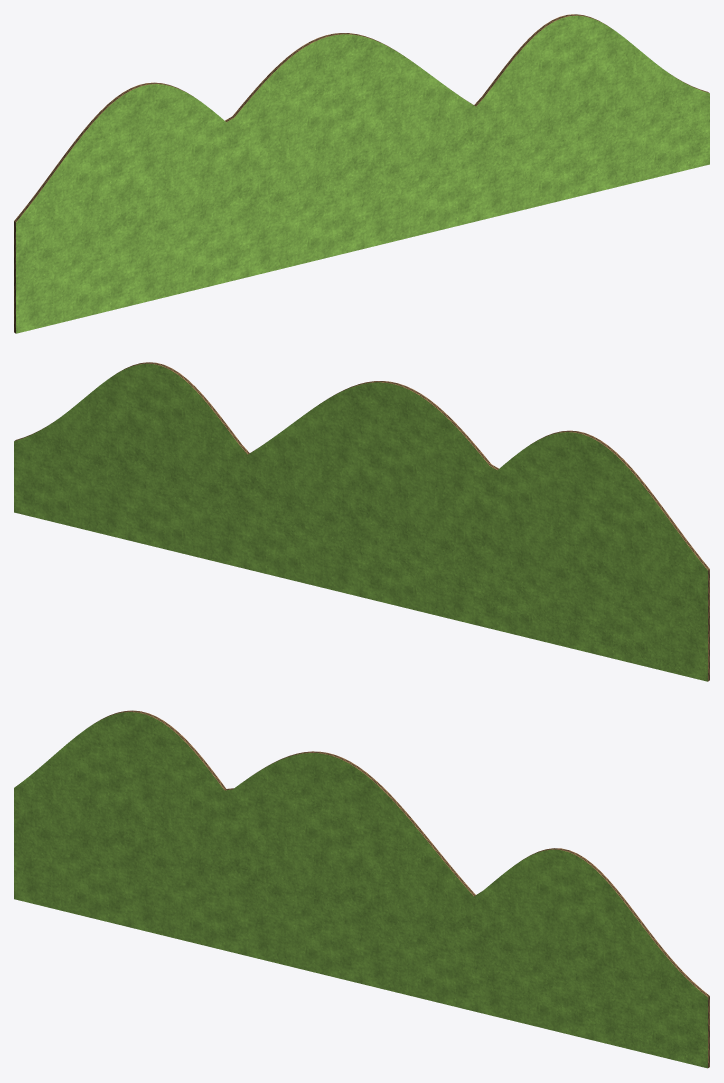
File: hill_backdrop_far.gltf
3 renders of one model, top to bottom at view 1: azimuth 30°, elevation 25°; view 2: azimuth 150°, elevation 25°; view 3: azimuth 330°, elevation 25°, orthographic.
Parts seen in each view (by area): view 1: hill_backdrop_far; view 2: hill_backdrop_far; view 3: hill_backdrop_far.
Boxes of the visible parts, bbox=[...] form: hill_backdrop_far: bbox=[14, 14, 709, 333]; hill_backdrop_far: bbox=[14, 362, 709, 681]; hill_backdrop_far: bbox=[14, 710, 709, 1068].
Bounding box in the file's own units: 12 × 3.65 × 0.06.
2 materials, 2 textured.
